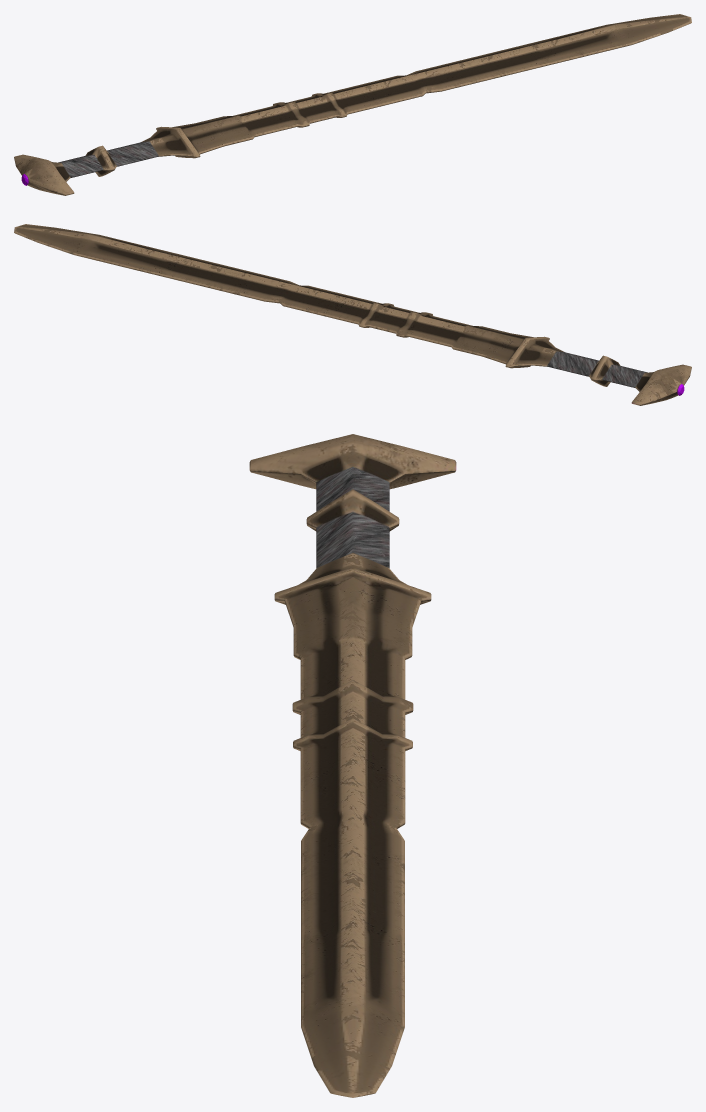
The model's file is sword_kusanagi_no_tsurugi.fbx.
The picture shows the model from 3 angles, top to bottom: view 1: azimuth 30°, elevation 25°; view 2: azimuth 150°, elevation 25°; view 3: azimuth 270°, elevation 25°; orthographic projection. The views are drawn at different scales.
Visible parts, largest first — view 1: node_54d974a4_d5be_4e7e_b09c_1b6ec710c94d_mesh0; view 2: node_54d974a4_d5be_4e7e_b09c_1b6ec710c94d_mesh0; view 3: node_54d974a4_d5be_4e7e_b09c_1b6ec710c94d_mesh0.
Part boxes in pixels (left/top/right/bottom): node_54d974a4_d5be_4e7e_b09c_1b6ec710c94d_mesh0: left=14, top=14, right=691, bottom=195; node_54d974a4_d5be_4e7e_b09c_1b6ec710c94d_mesh0: left=14, top=224, right=691, bottom=405; node_54d974a4_d5be_4e7e_b09c_1b6ec710c94d_mesh0: left=249, top=434, right=456, bottom=1097.
Size of the model in its own units: 200 by 8.75 by 26.77.
Materials: 1 (1 with a texture image).
